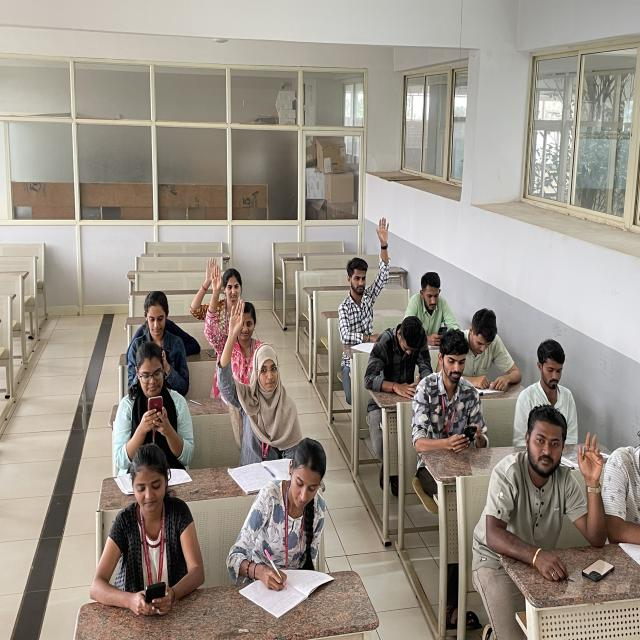Hand Rising: (480, 401, 610, 584), (215, 298, 299, 451), (337, 215, 392, 328), (205, 265, 256, 379)
Using Phone: (87, 444, 209, 630), (108, 336, 200, 481), (408, 325, 489, 457), (365, 315, 436, 409), (126, 290, 189, 384), (407, 270, 461, 338)
Writing: (225, 434, 342, 620), (459, 303, 524, 393)
